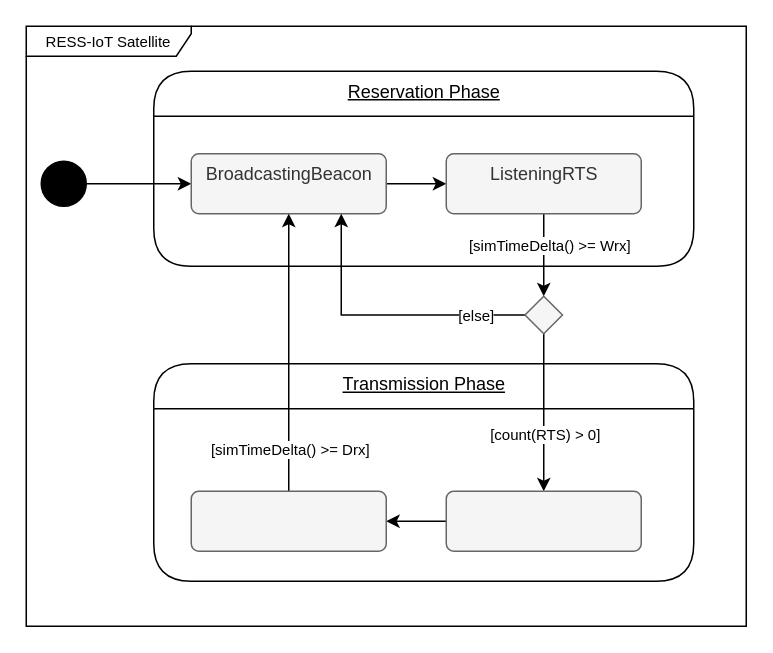
This 773x653 diagram has some shape labels left out. The shapes that lost their labels are listed below. From the top down, each one's centre as x and y in pixels, then its label:
[288,520]: Listening
[543,520]: BroadcastingVCTS
